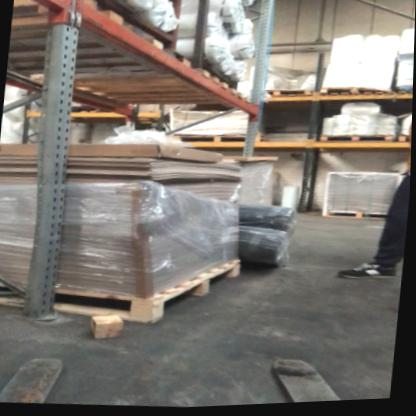vertical_damage: (23, 303, 72, 331)
